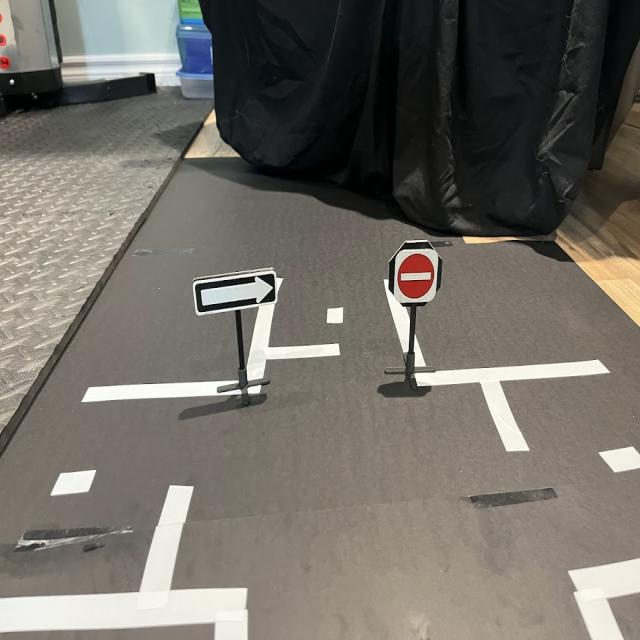sign_noentry: (395, 250, 439, 303)
sign_oneway_right: (191, 269, 283, 321)
